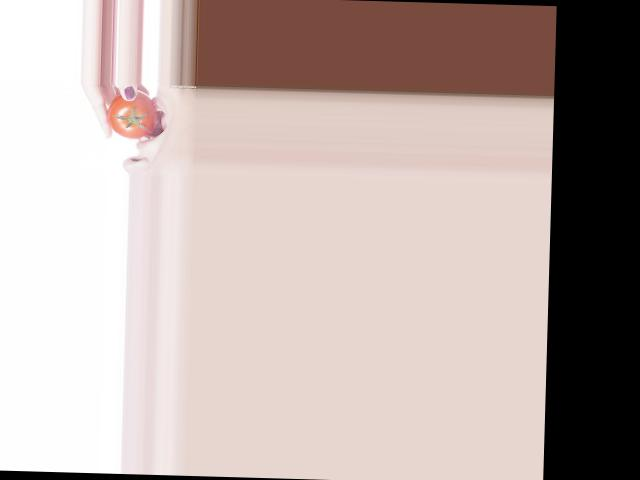tomato: (105, 88, 156, 139)
